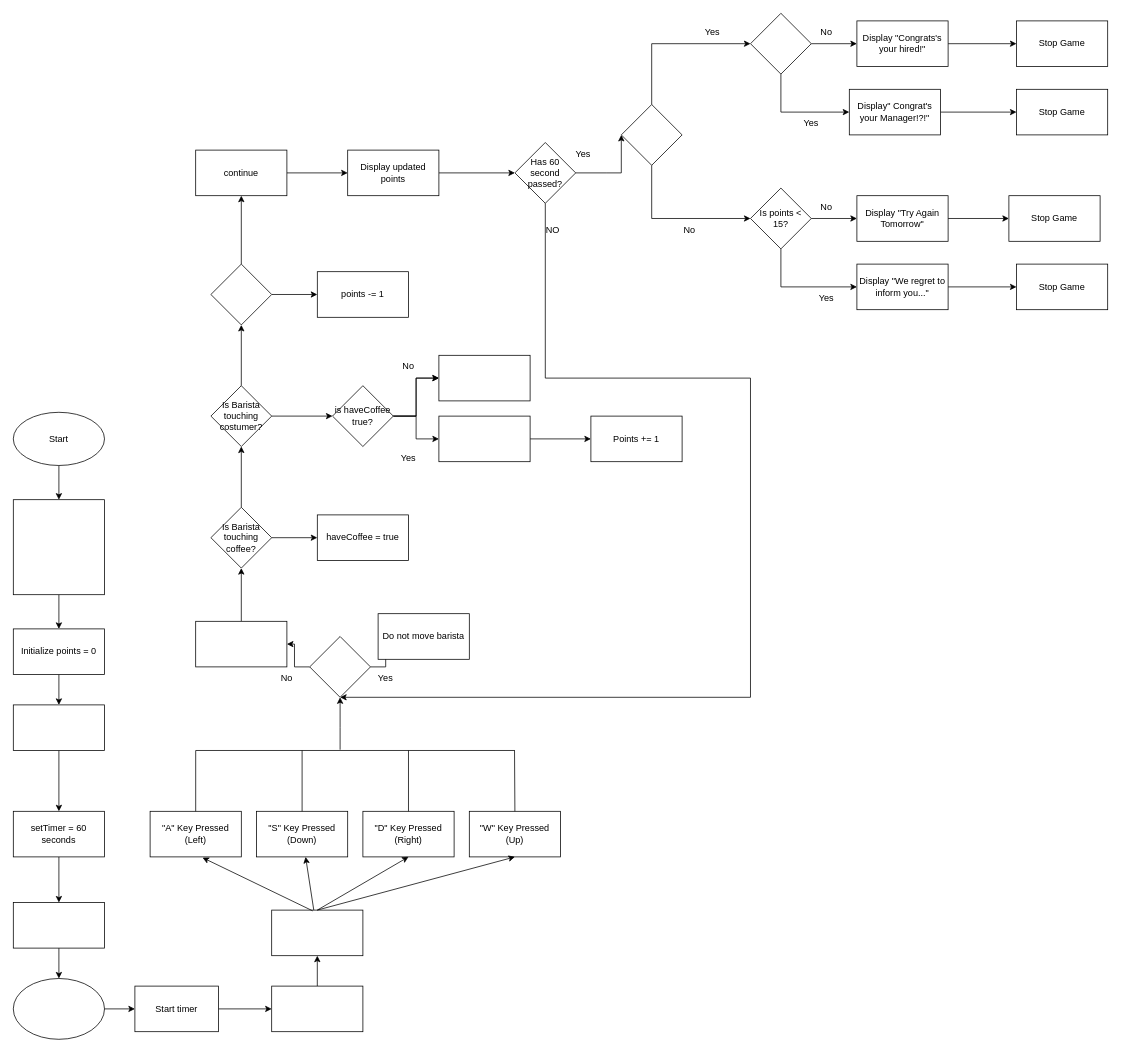
Some shapes in this 1121 by 1053 pixel diagram are drawn without their labels. The shapes that lost their labels are listed below. From the top down, each one's centre as x and y in pixels, then its label:
point 780,43: Is points > 25?
point 651,134: Is points > 20?
point 241,294: Is Barista touching spill?
point 484,378: Pass by customer
point 484,438: haveCoffee = false
point 58,547: Initialize (actors): tables customers barista coffee cups coffee spills
point 241,644: Move Barista
point 339,666: Is table blocking?
point 58,727: Initializse haveCoffee = false
point 58,925: Display the points
point 317,932: Movement direction
point 58,1008: Start the Game
point 317,1008: Keyboard Press
